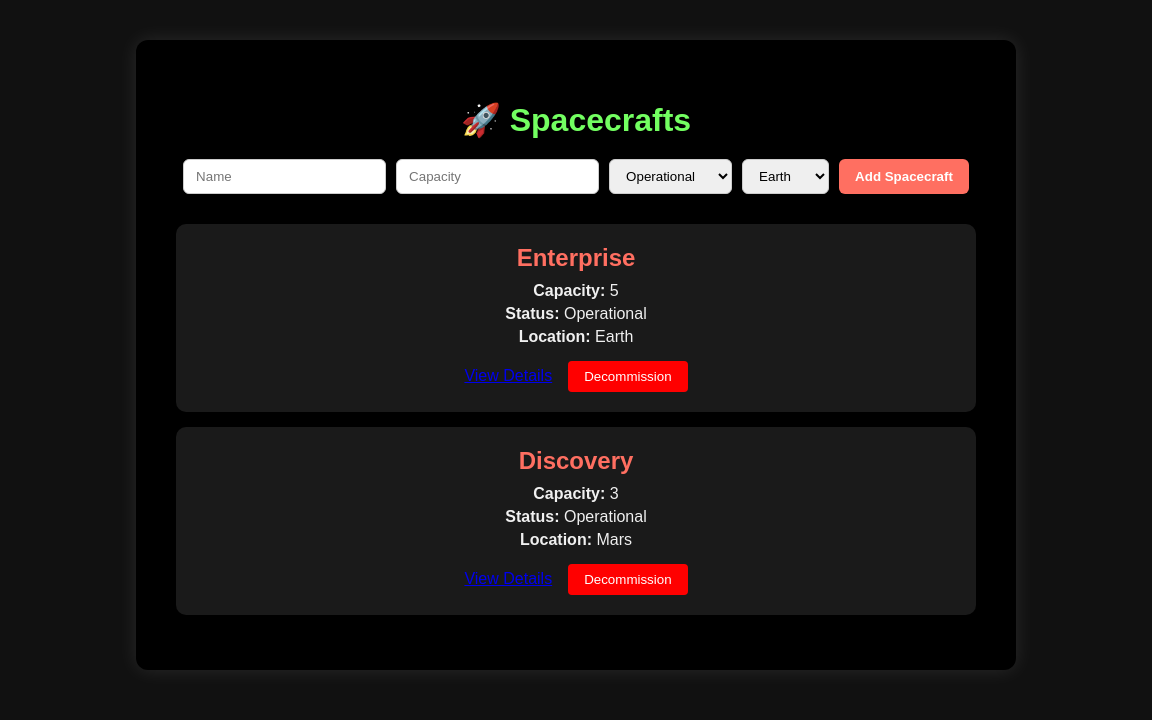
Spacecrafts Page › decommissions a spacecraft
Click the button "Decommission" below "Earth" at (628, 377), box [568,361,688,392]
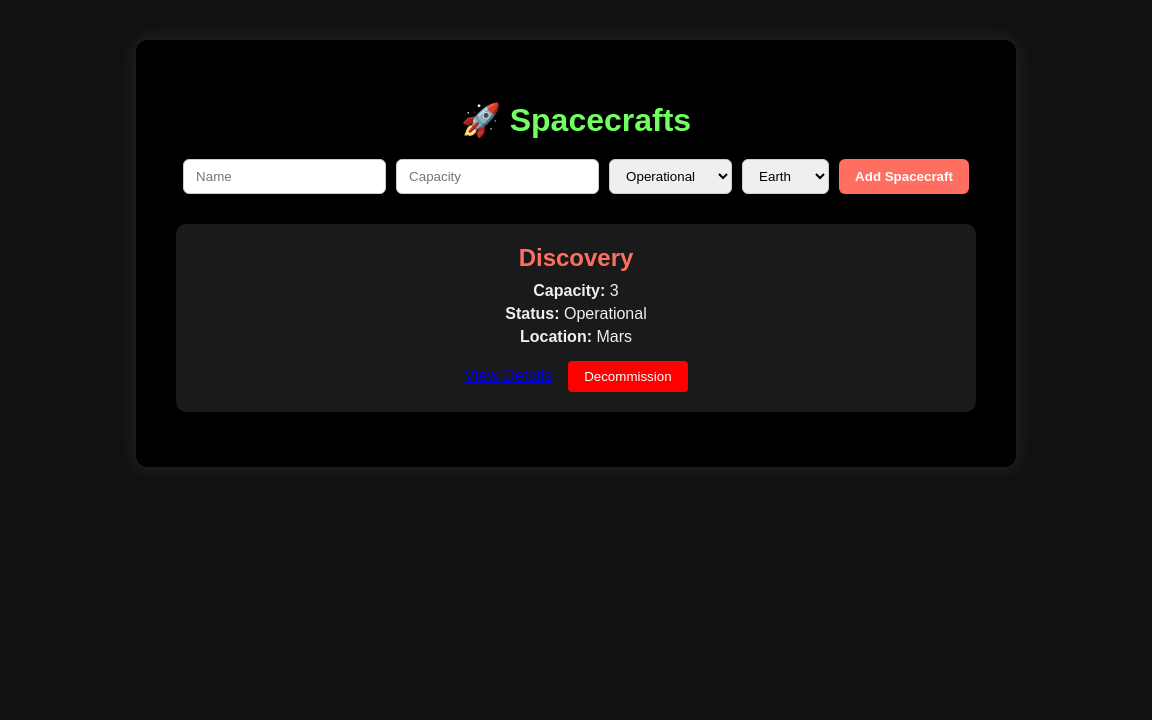
Result: the heading "Enterprise" is gone
